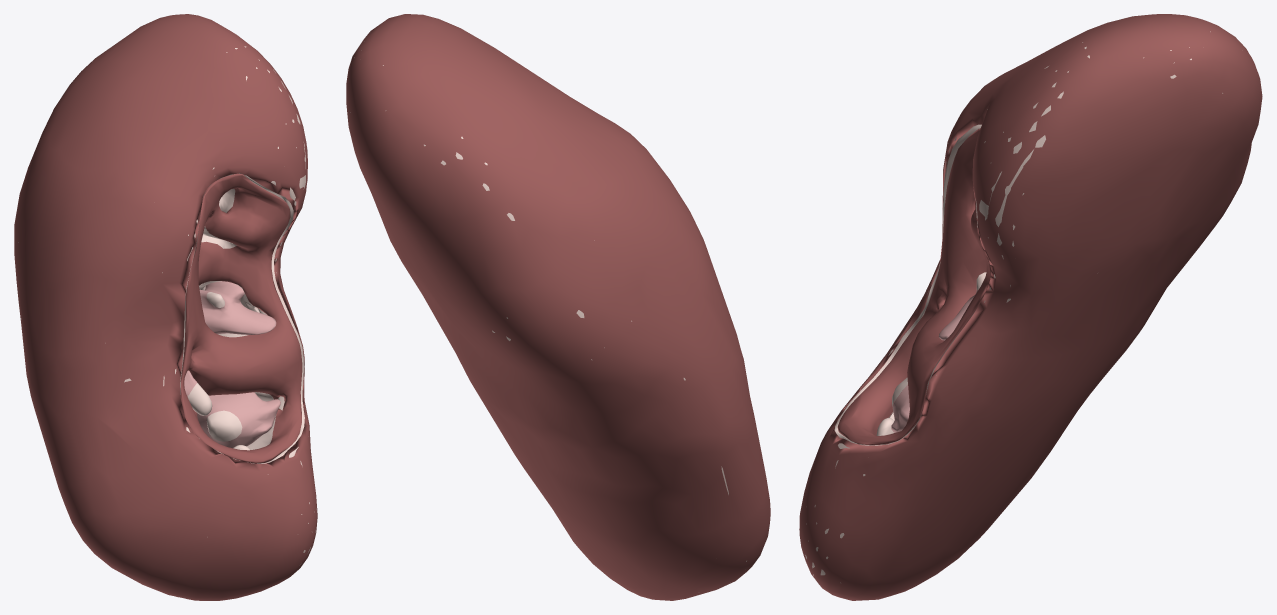
The model's file is vh_m_kidney_r-40.glb.
3 views of the same model, side by side, from view 1: azimuth 30°, elevation 25°; view 2: azimuth 150°, elevation 25°; view 3: azimuth 270°, elevation 25° (orthographic). The views are drawn at different scales.
Visible parts, largest first — view 1: VH_M_kidney_capsule_R, VH_M_hilum_of_kidney_R, VH_M_renal_pyramid_f, VH_M_renal_pyramid_h, VH_M_outer_cortex_of_kidney_R, VH_M_renal_column_R, VH_M_renal_papilla_R_h, VH_M_renal_papilla_R_g; view 2: VH_M_kidney_capsule_R; view 3: VH_M_kidney_capsule_R, VH_M_hilum_of_kidney_R, VH_M_outer_cortex_of_kidney_R, VH_M_renal_pyramid_h.
Boxes of the visible parts, x1,y1,x2,y2 form: VH_M_kidney_capsule_R: [14, 14, 317, 600]; VH_M_hilum_of_kidney_R: [180, 173, 302, 463]; VH_M_renal_pyramid_f: [199, 281, 276, 334]; VH_M_renal_pyramid_h: [197, 392, 280, 448]; VH_M_outer_cortex_of_kidney_R: [18, 46, 317, 565]; VH_M_renal_column_R: [199, 188, 275, 449]; VH_M_renal_papilla_R_h: [206, 410, 242, 441]; VH_M_renal_papilla_R_g: [187, 383, 212, 415]; VH_M_kidney_capsule_R: [346, 14, 770, 600]; VH_M_kidney_capsule_R: [799, 14, 1262, 600]; VH_M_hilum_of_kidney_R: [837, 128, 990, 445]; VH_M_outer_cortex_of_kidney_R: [805, 31, 1222, 582]; VH_M_renal_pyramid_h: [891, 384, 909, 432].
Size of the model in its own units: 0.0655 by 0.1125 by 0.0764.
